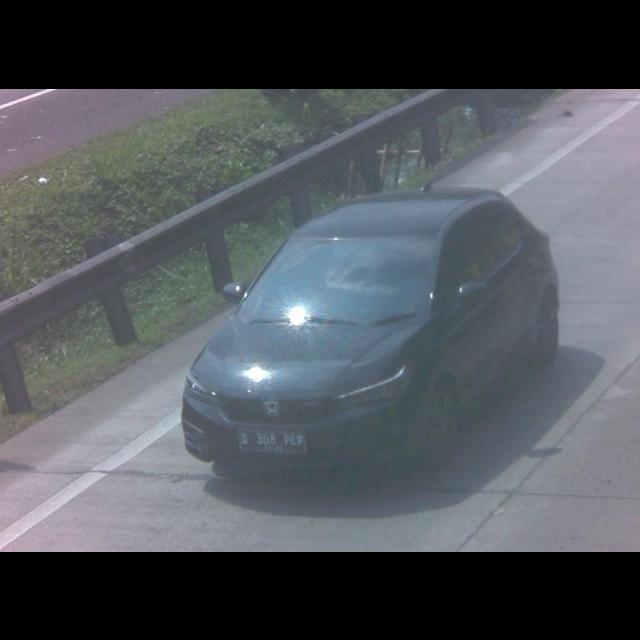plate: (237, 431, 305, 452)
